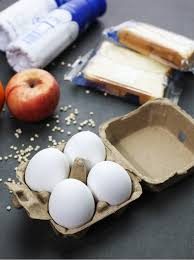bread: (87, 19, 194, 115)
eggs: (30, 140, 128, 226)
